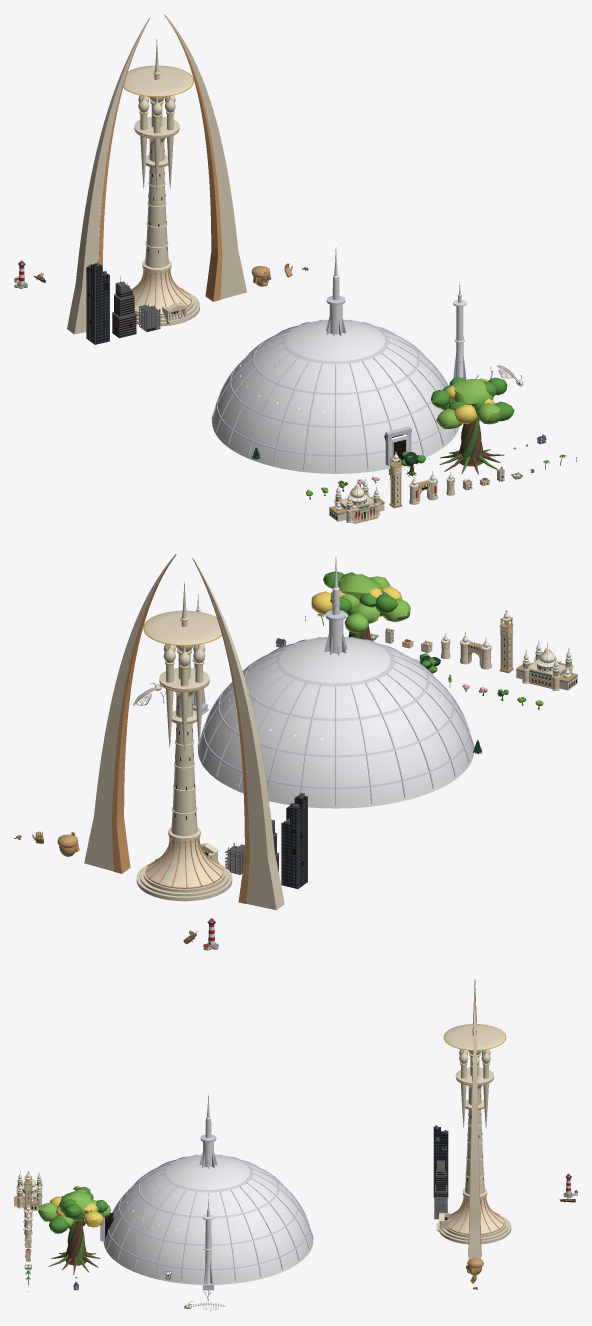
Rendered from IslandAssets.fbx.
3 renders of one model, top to bottom at view 1: azimuth 30°, elevation 25°; view 2: azimuth 150°, elevation 25°; view 3: azimuth 270°, elevation 25°, orthographic. The views are drawn at different scales.
Visible parts, largest first — view 1: Bastion__Bastion, Watchtower__Stone_1, Bastion__BastionTrim, Watchtower__Stone_2, Watchtower__Trim, Watchtower__Stone_3, Skyscraper_A__Glass, WorldTree__LeavesLight, Skyscraper_A__Concrete, WorldTree__Leaves, Skyscraper_B__Concrete, Palace__Stone_1 (+3 smaller); view 2: Bastion__Bastion, Watchtower__Stone_1, Bastion__BastionTrim, Watchtower__Trim, Watchtower__Stone_2, Watchtower__Stone_3, WorldTree__LeavesLight, Skyscraper_A__Glass, Skyscraper_A__Concrete, Palace__Stone_1, WorldTree__Leaves, WorldTree__LeavesGold (+2 smaller); view 3: Bastion__Bastion, Bastion__BastionTrim, Watchtower__Stone_1, Watchtower__Stone_2, Watchtower__Stone_3, Watchtower__Trim, WorldTree__LeavesLight, WorldTree__Leaves, WorldTree__Bark, Skyscraper_A__Glass, WorldTree__LeavesGold, NeedleTower__Bastion (+1 smaller).
Part boxes in pixels (<box>): Bastion__Bastion: <box>212,246,459,473</box>; Watchtower__Stone_1: <box>67,151,246,334</box>; Bastion__BastionTrim: <box>211,289,455,471</box>; Watchtower__Stone_2: <box>91,77,223,184</box>; Watchtower__Trim: <box>98,15,222,315</box>; Watchtower__Stone_3: <box>112,14,201,105</box>; Skyscraper_A__Glass: <box>87,264,109,344</box>; WorldTree__LeavesLight: <box>436,379,501,429</box>; Skyscraper_A__Concrete: <box>86,262,109,344</box>; WorldTree__Leaves: <box>431,377,514,421</box>; Skyscraper_B__Concrete: <box>112,281,136,338</box>; Palace__Stone_1: <box>329,487,384,522</box>; Bastion__Bastion: <box>198,555,473,808</box>; Watchtower__Stone_1: <box>84,706,284,910</box>; Bastion__BastionTrim: <box>197,603,474,805</box>; Watchtower__Trim: <box>111,554,249,903</box>; Watchtower__Stone_2: <box>110,624,258,743</box>; Watchtower__Stone_3: <box>134,554,236,653</box>; WorldTree__LeavesLight: <box>330,574,410,633</box>; Skyscraper_A__Glass: <box>282,796,306,888</box>; Skyscraper_A__Concrete: <box>281,792,307,889</box>; Palace__Stone_1: <box>516,651,577,690</box>; WorldTree__Leaves: <box>323,571,398,616</box>; WorldTree__LeavesGold: <box>311,585,402,615</box>; Bastion__Bastion: <box>100,1093,313,1284</box>; Bastion__BastionTrim: <box>100,1129,313,1281</box>; Watchtower__Stone_1: <box>436,1109,511,1259</box>; Watchtower__Stone_2: <box>455,1049,493,1136</box>; Watchtower__Stone_3: <box>444,979,505,1066</box>; Watchtower__Trim: <box>447,980,504,1256</box>; WorldTree__LeavesLight: <box>38,1190,110,1228</box>; WorldTree__Leaves: <box>48,1187,108,1233</box>; WorldTree__Bark: <box>51,1218,98,1274</box>; Skyscraper_A__Glass: <box>434,1127,448,1196</box>; WorldTree__LeavesGold: <box>49,1190,103,1227</box>; NeedleTower__Bastion: <box>202,1199,214,1284</box>.
Size of the model in its own units: 116 by 115 by 236.
